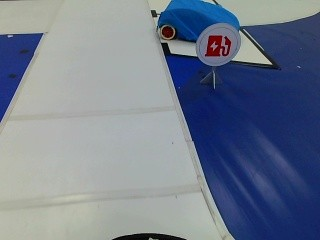battery: (199, 30, 236, 65)
car: (151, 0, 239, 40)
